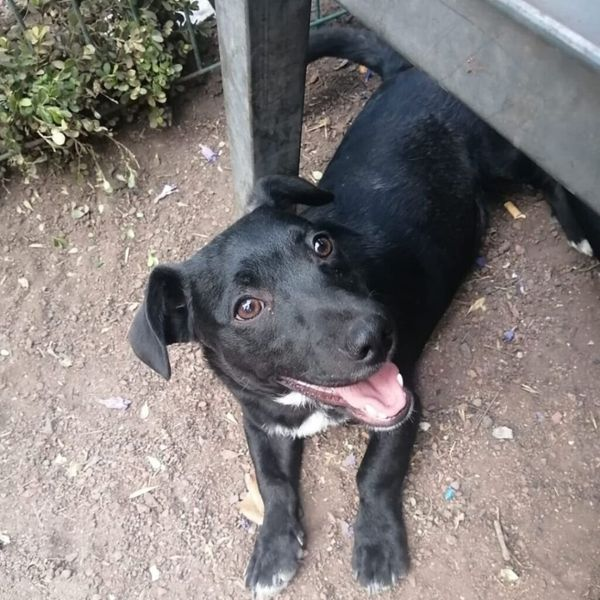dog: (104, 32, 530, 584)
